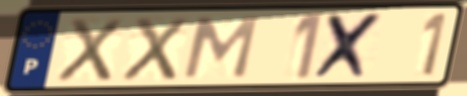1: (288, 11, 325, 84), (419, 11, 450, 79)
M: (179, 14, 262, 80)
X: (309, 11, 389, 82), (118, 15, 190, 83), (53, 16, 125, 84)
